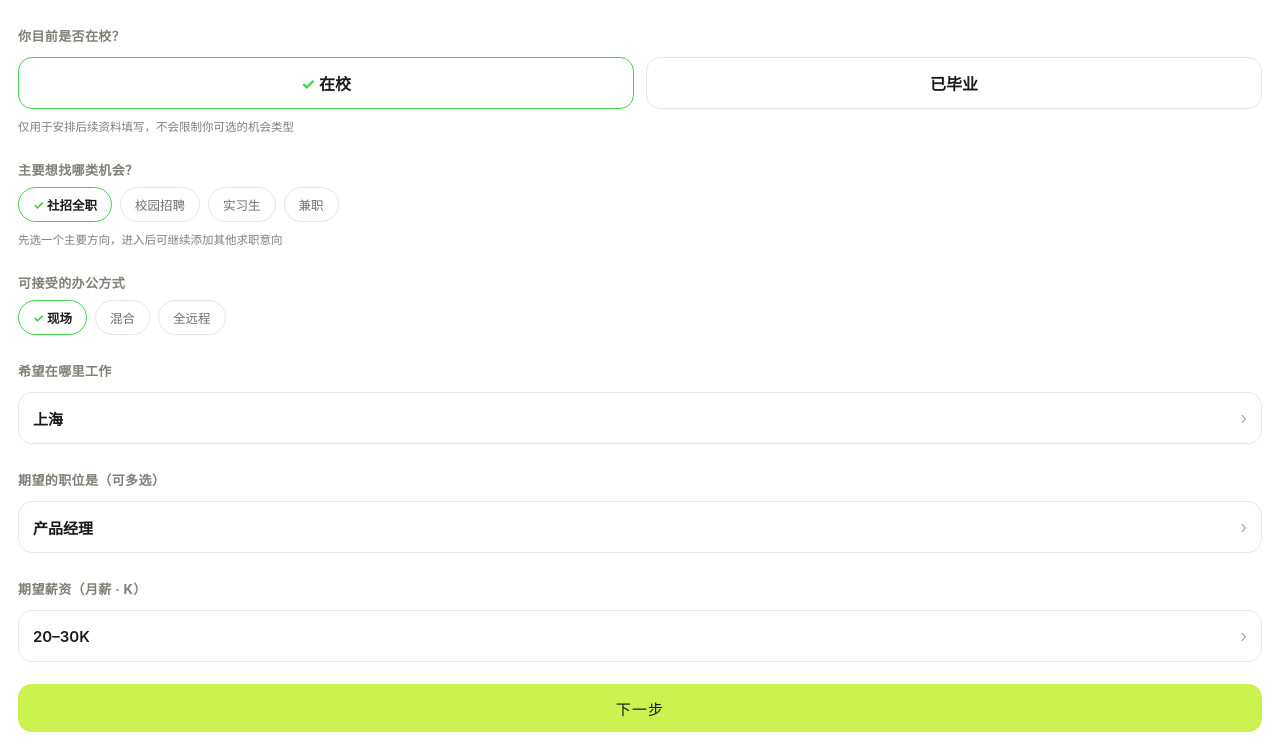
Scenario: 学生分流 候选 onboarding 简历预填（Spec §7 上传页接线） › waiting_parse round plus 下一步 opens the existing 确认层 with 再等等 / 继续手填
(page scrolled)
Click the button "下一步".
click(640, 708)  # box 18,684 -> 1262,732
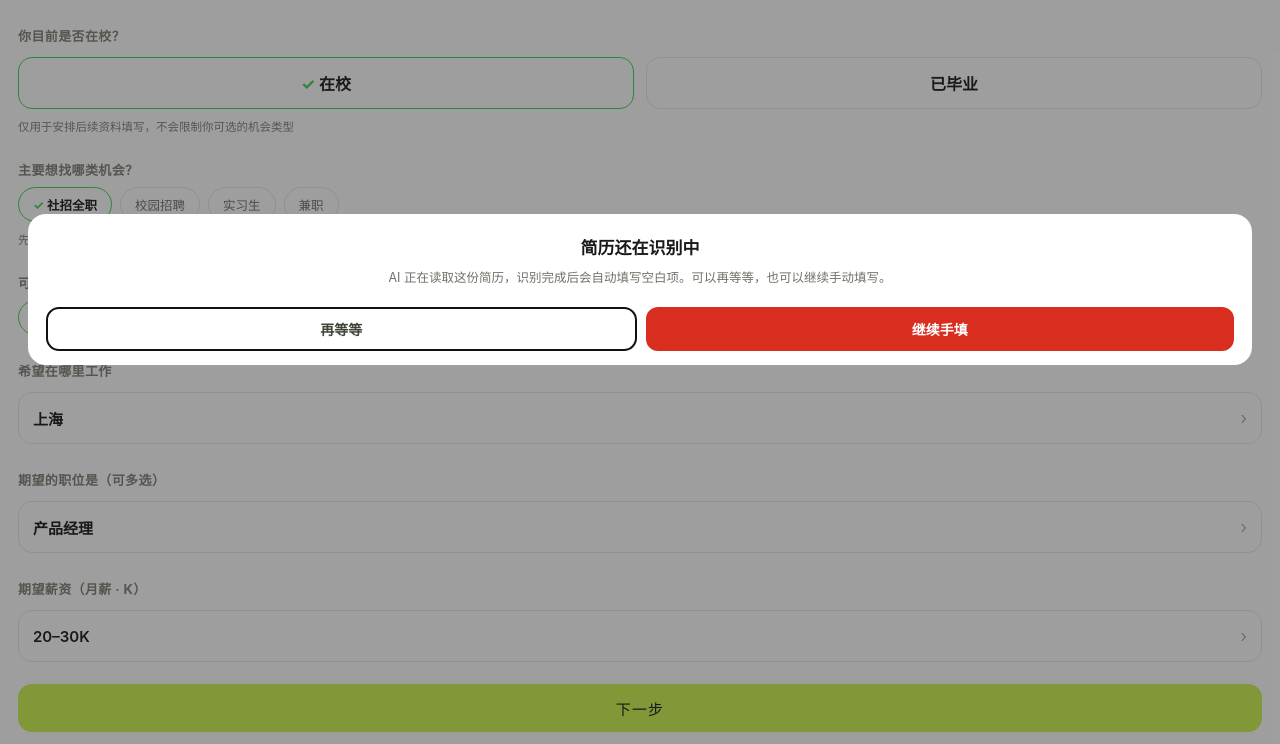
Check: the button "再等等" is shown, box 46,307 -> 636,351
Check: the button "继续手填" is shown, box 646,307 -> 1234,351
